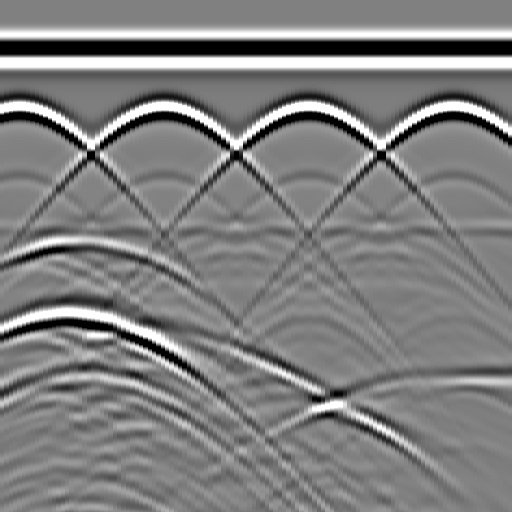grout_surface: (1, 215, 512, 245)
rebar: (142, 90, 182, 130), (286, 90, 326, 130), (430, 90, 470, 130)
rock_surface: (1, 331, 511, 407)
water_void: (42, 218, 102, 258)
